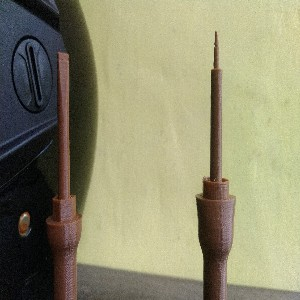obeng: (46, 51, 82, 300)
solder: (194, 28, 237, 300)
